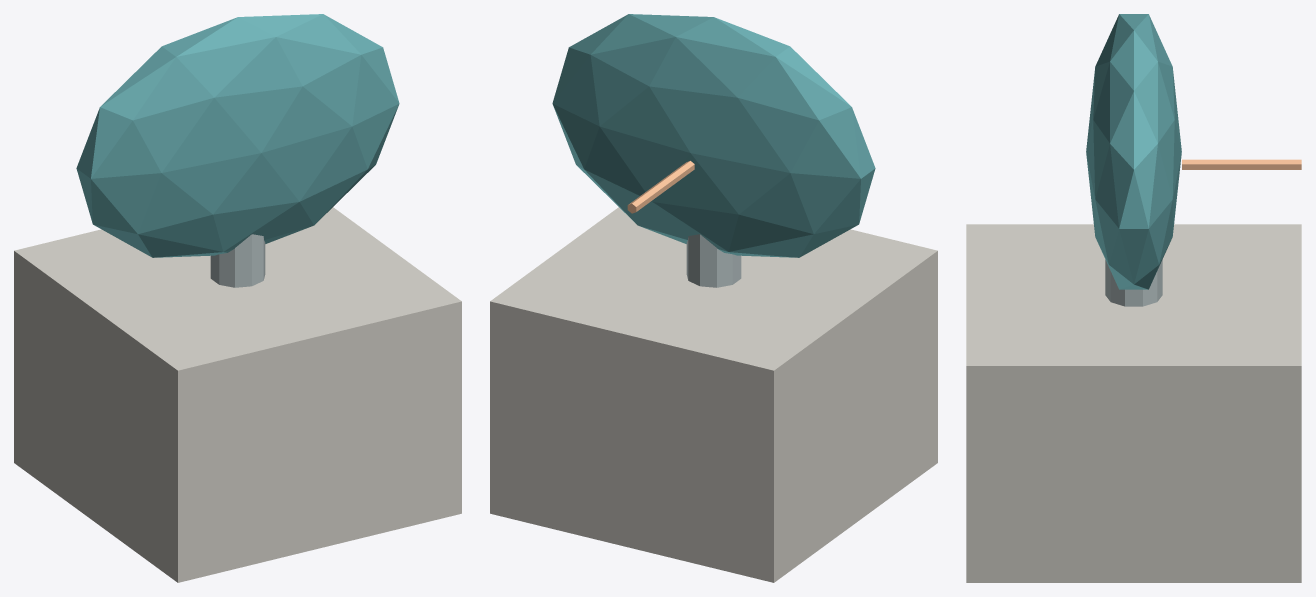
File: radar_station.glb
3 views of the same model, side by side, from view 1: azimuth 30°, elevation 25°; view 2: azimuth 150°, elevation 25°; view 3: azimuth 270°, elevation 25° (orthographic). The views are drawn at different scales.
Parts seen in each view (by area): view 1: radar_station__radar_base, radar_station__radar_dish, radar_station__mast; view 2: radar_station__radar_base, radar_station__radar_dish, radar_station__mast, radar_station__dish_feed; view 3: radar_station__radar_base, radar_station__radar_dish, radar_station__mast, radar_station__dish_feed.
Part boxes in pixels (x1,y1,x2,y2): radar_station__radar_base: (14, 207, 461, 582); radar_station__radar_dish: (76, 14, 399, 257); radar_station__mast: (210, 234, 265, 287); radar_station__radar_base: (490, 207, 937, 582); radar_station__radar_dish: (552, 14, 875, 257); radar_station__mast: (686, 234, 741, 287); radar_station__dish_feed: (627, 161, 694, 213); radar_station__radar_base: (966, 224, 1301, 582); radar_station__radar_dish: (1086, 14, 1181, 289); radar_station__mast: (1105, 260, 1162, 306); radar_station__dish_feed: (1182, 159, 1301, 169).
Size of the model in its own units: 7.61 by 11.1 by 7.
